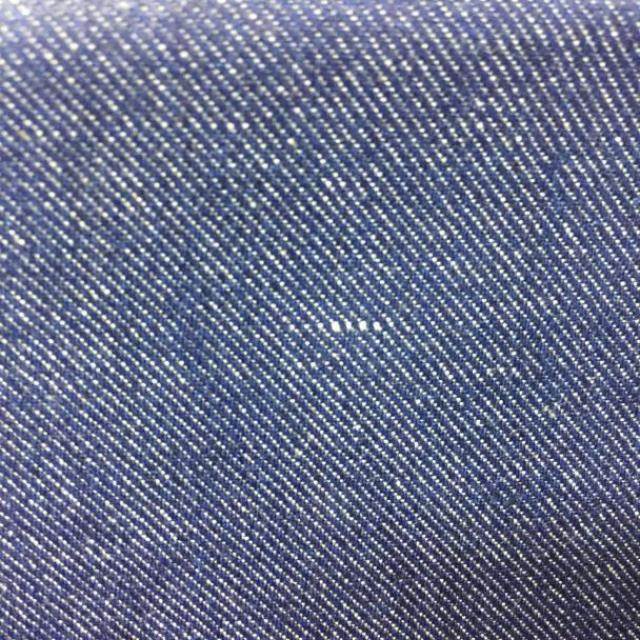Knot: (329, 319, 385, 334)
